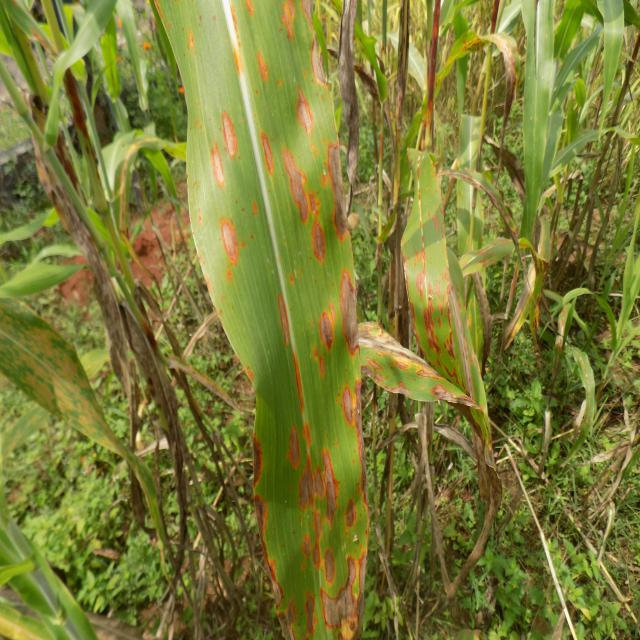millet_rust: (152, 0, 369, 640)
